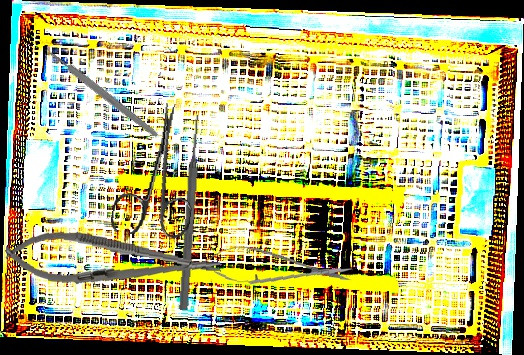Iris Scissors: (109, 97, 208, 243)
Micro Scissor: (200, 242, 355, 294)
Needle Holder: (3, 226, 223, 296)
Pusher: (177, 114, 204, 311)
Scalpel Handle: (47, 48, 160, 140)
